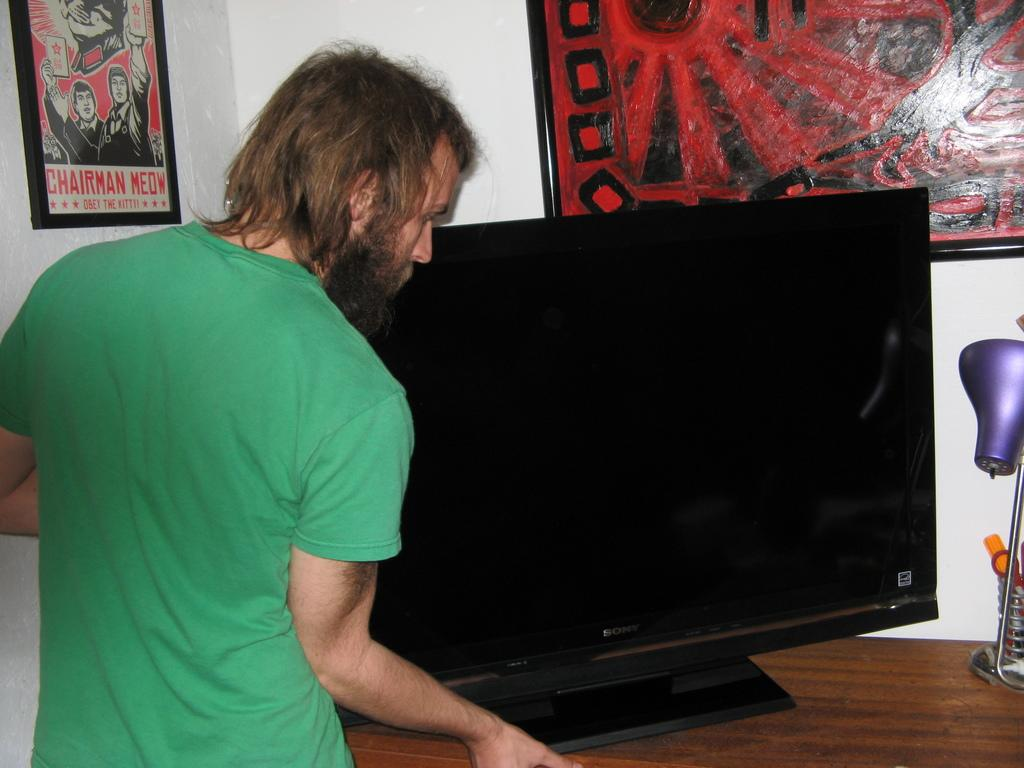Computer-monitor: (379, 166, 934, 755)
